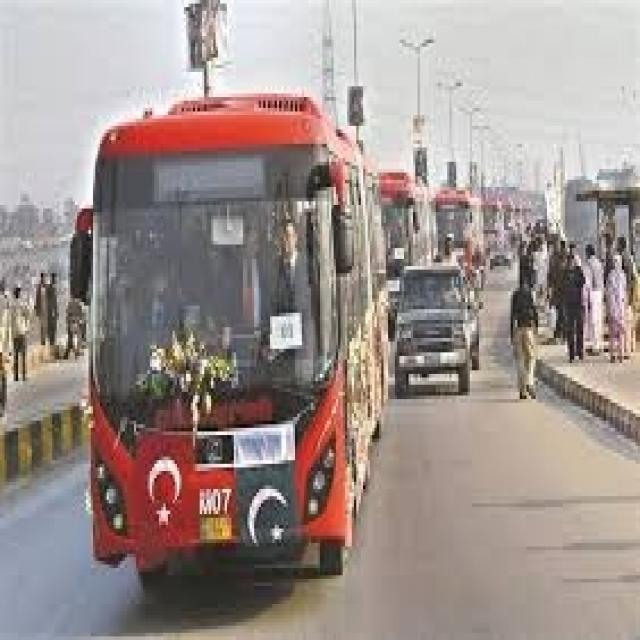bus: (56, 65, 392, 579), (373, 144, 428, 279), (431, 170, 481, 266)
